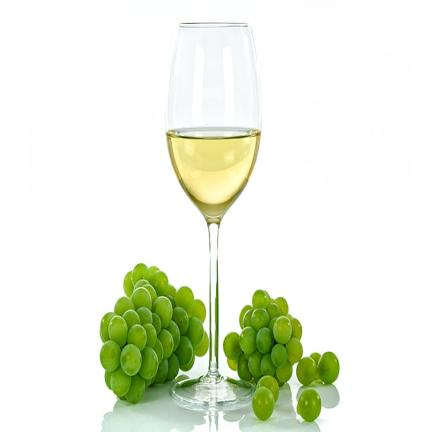container: (165, 24, 260, 226)
fluid: (167, 134, 259, 208)
fluid-surface: (169, 125, 250, 136)
